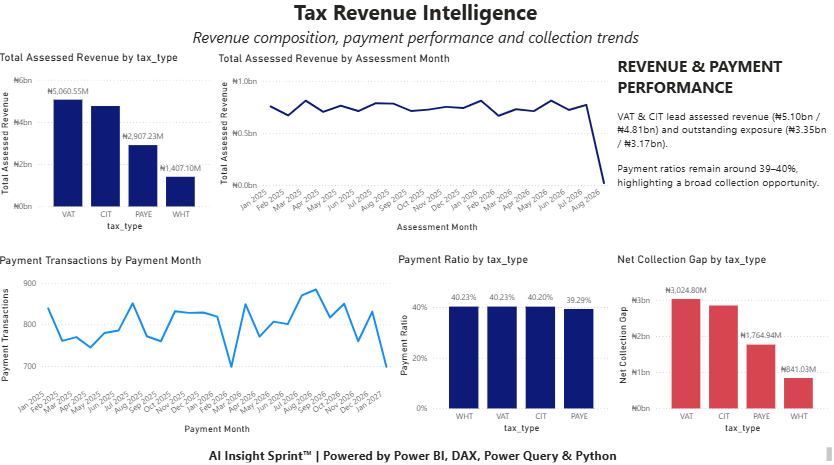

This screenshot's page, from the dashboard's own definition file:
{"tool":"powerbi","page":{"name":"Revenue Intelligence","canvas":[1280,720],"ordinal":1},"visuals":[{"type":"clusteredColumnChart","fields":{"Category":["assessments_raw.tax_type"],"Y":["Measure1.Total Assessed Revenue"]},"box":[0,87.6,333,280.1],"z":0},{"type":"textbox","box":[0,0,1280,88.3],"z":1000},{"type":"lineChart","fields":{"Category":["assessments_raw.Assessment Month"],"Y":["Measure1.Total Assessed Revenue"]},"box":[333.3,88.4,609,280.1],"z":2000},{"type":"clusteredColumnChart","fields":{"Category":["tax_calendar.tax_type"],"Y":["Measure1.Payment Ratio"]},"box":[608.7,395.7,333,280.1],"z":3000},{"type":"clusteredColumnChart","fields":{"Category":["tax_calendar.tax_type"],"Y":["Measure1.Outstanding Exposure"]},"box":[942,395.7,333,280.1],"z":4000},{"type":"textbox","box":[0,686.7,1280,33.3],"z":5000},{"type":"lineChart","fields":{"Category":["payments_raw.Payment Month"],"Y":["Measure1.Payment Transactions"]},"box":[0,396.5,609.1,280.1],"z":6000},{"type":"textbox","box":[942,88.9,338.3,280.2],"z":7000}]}

Visuals, with their boxes in screenshot pixels (x1, y1, x2, y2), scaled from the page's 1280x720 canvas onto the 834x465 screenshot:
clusteredColumnChart - assessments_raw.tax_type x Measure1.Total Assessed Revenue: x1=0, y1=57, x2=217, y2=237
textbox: x1=0, y1=0, x2=833, y2=57
lineChart - assessments_raw.Assessment Month x Measure1.Total Assessed Revenue: x1=217, y1=57, x2=614, y2=238
clusteredColumnChart - tax_calendar.tax_type x Measure1.Payment Ratio: x1=397, y1=256, x2=614, y2=436
clusteredColumnChart - tax_calendar.tax_type x Measure1.Outstanding Exposure: x1=614, y1=256, x2=831, y2=436
textbox: x1=0, y1=443, x2=833, y2=464
lineChart - payments_raw.Payment Month x Measure1.Payment Transactions: x1=0, y1=256, x2=397, y2=437
textbox: x1=614, y1=57, x2=833, y2=238
